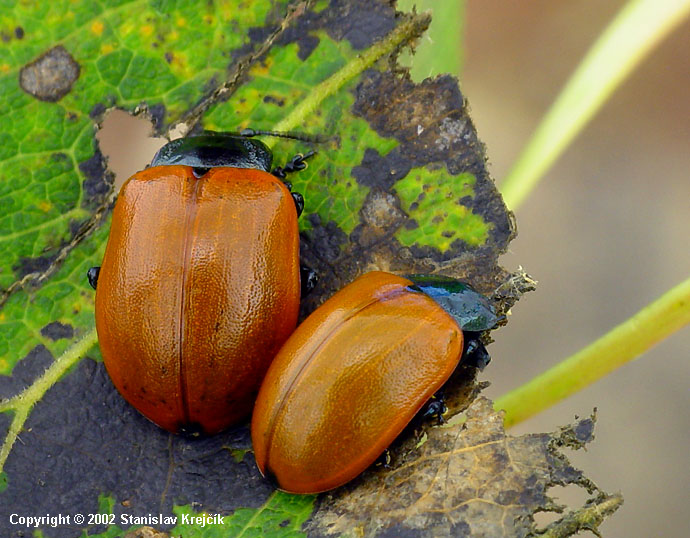Chrysomela_populi: (80, 123, 323, 441), (243, 257, 529, 500)
